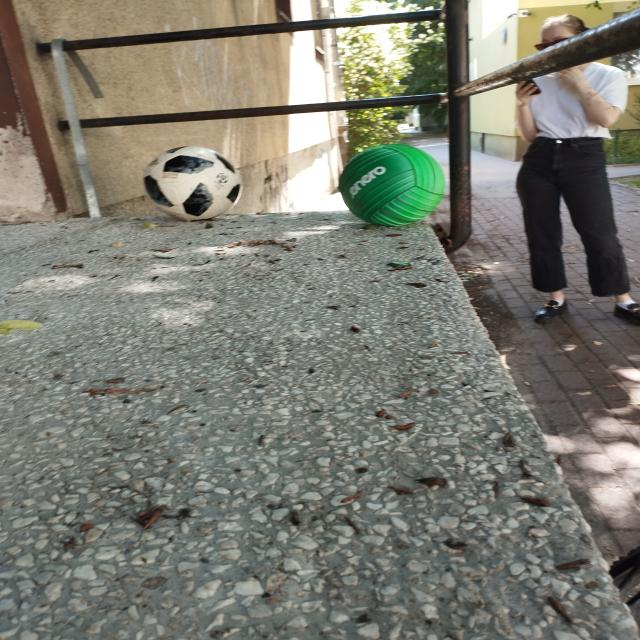nozna: (143, 145, 244, 221)
zielona: (337, 144, 446, 227)
